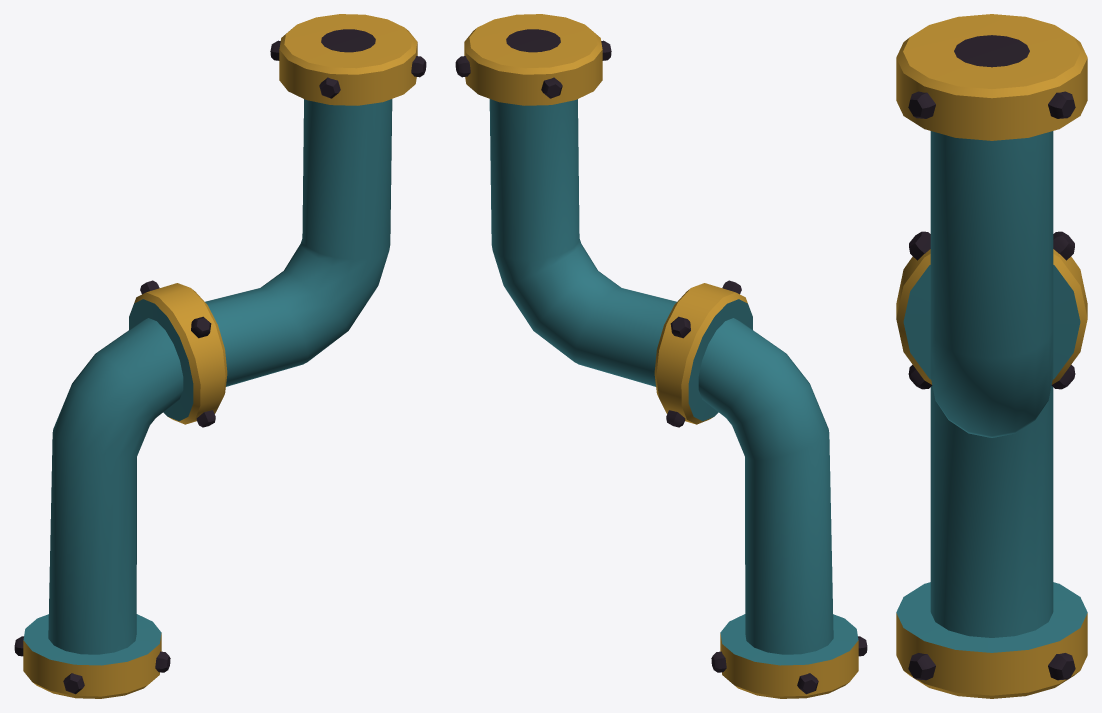
The model's file is PipeRun_21.glb.
3 renders of one model, left to right at view 1: azimuth 30°, elevation 25°; view 2: azimuth 150°, elevation 25°; view 3: azimuth 270°, elevation 25°, orthographic. The views are drawn at different scales.
Parts seen in each view (by area): view 1: PipeRun_21; view 2: PipeRun_21; view 3: PipeRun_21.
Part boxes in pixels (x1,y1,x2,y2): PipeRun_21: (14,14,426,698); PipeRun_21: (455,14,867,698); PipeRun_21: (896,14,1087,698).
Bounding box in the file's own units: 3.3 × 4.76 × 1.06.
